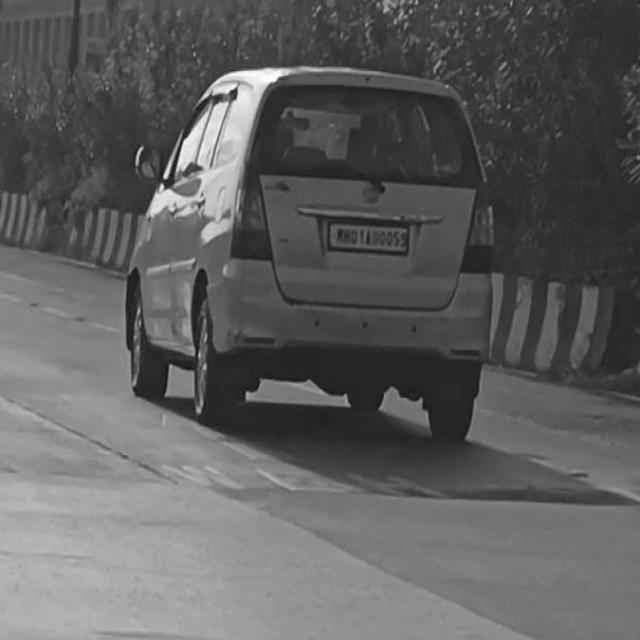car: (120, 59, 502, 450)
license-plate: (325, 222, 410, 256)
